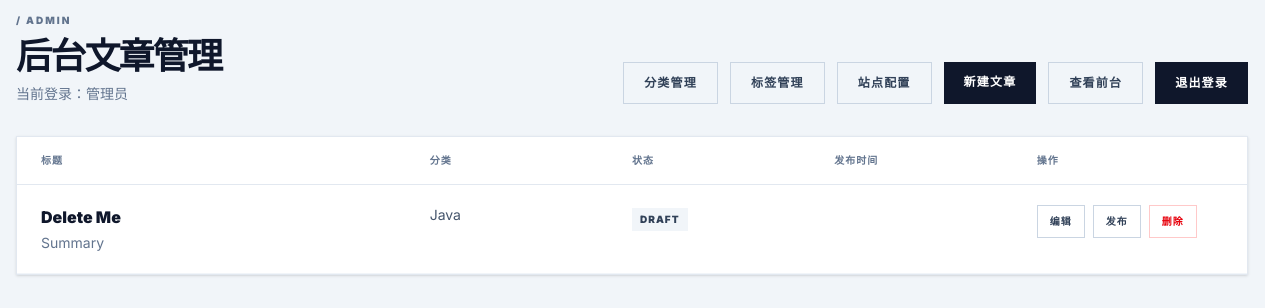
Test: AdminPosts page › deletes post from list
Expected: the text "Delete Me" is shown, [41,207,121,227]
Click the button "删除".
click(1173, 222)  # box [1149,205,1197,238]
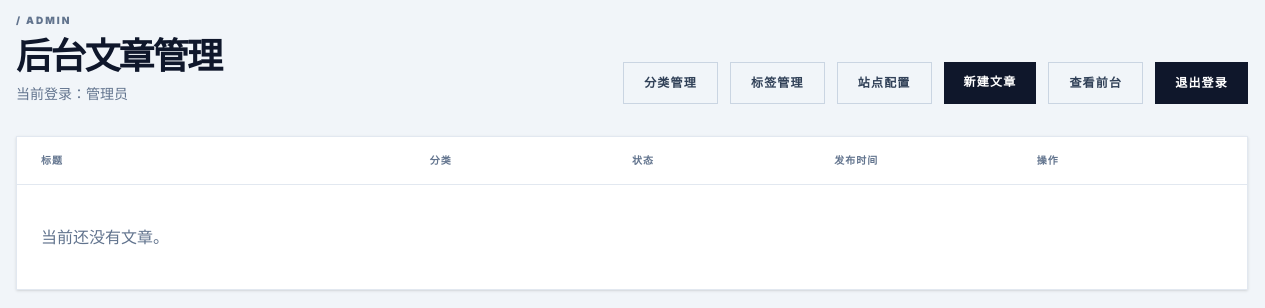
Now the text "Delete Me" is gone
